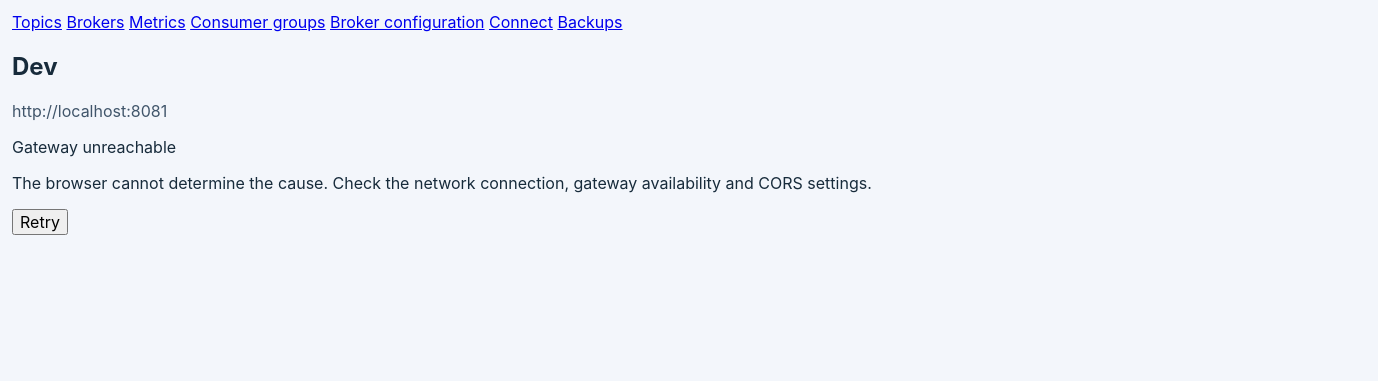
ClusterPage › shows an error with Retry, then the brokers after Retry (F2-AC2)
Expected: the text "Gateway unreachable" is shown, [12,137,176,157]
What coordinates should you click on to do the following:
click the button "Retry"
I would click on:
 (40, 222)
Its box is [12,209,68,235].
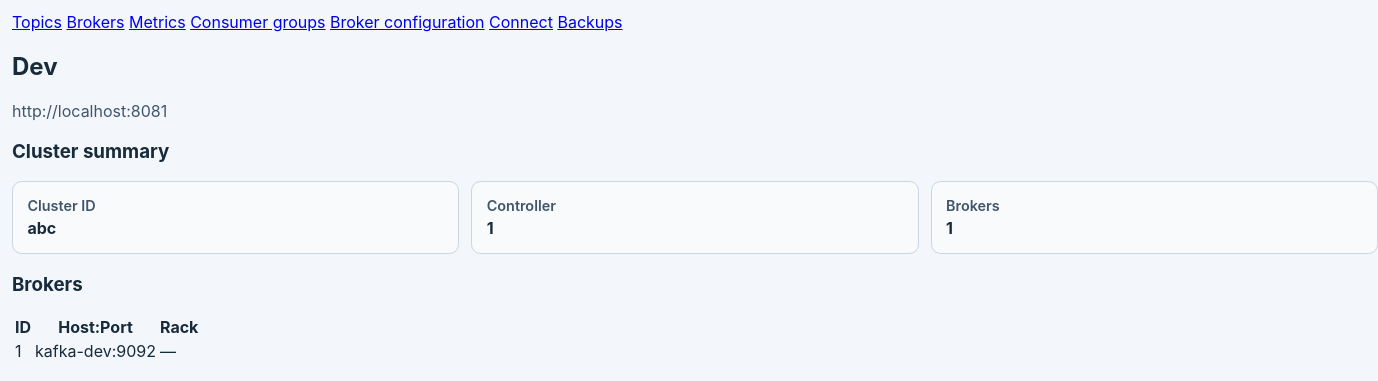
Now the table named "Brokers" is shown, box [12,314,201,364]
Now the text "kafka-dev:9092" is shown, box [34,340,157,362]
Now the message is gone
